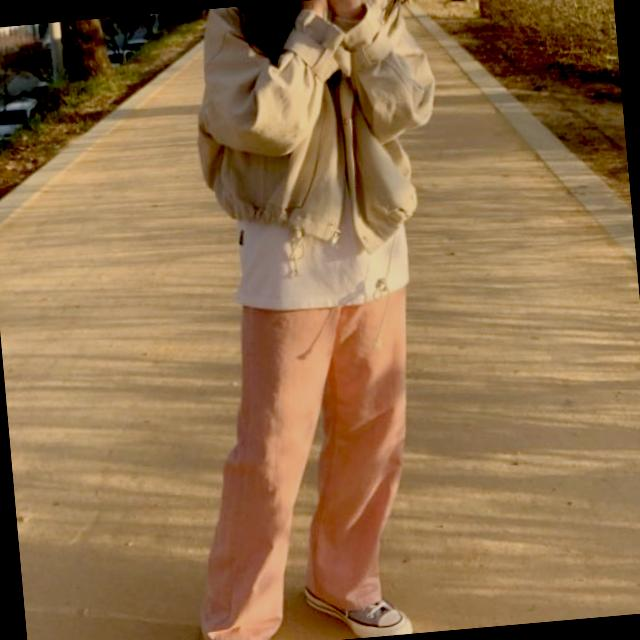cottonpants: (167, 272, 434, 640)
jacket: (186, 0, 450, 266)
